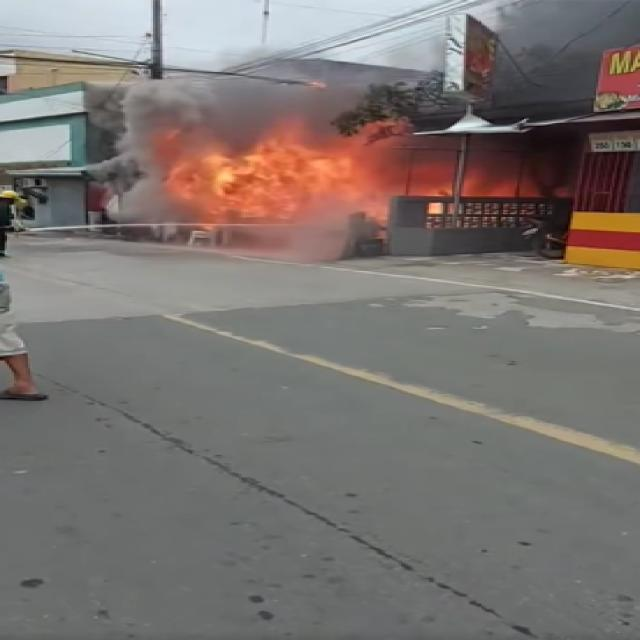Fire: (158, 130, 388, 221)
Smoke: (92, 77, 322, 226), (503, 0, 591, 97)
